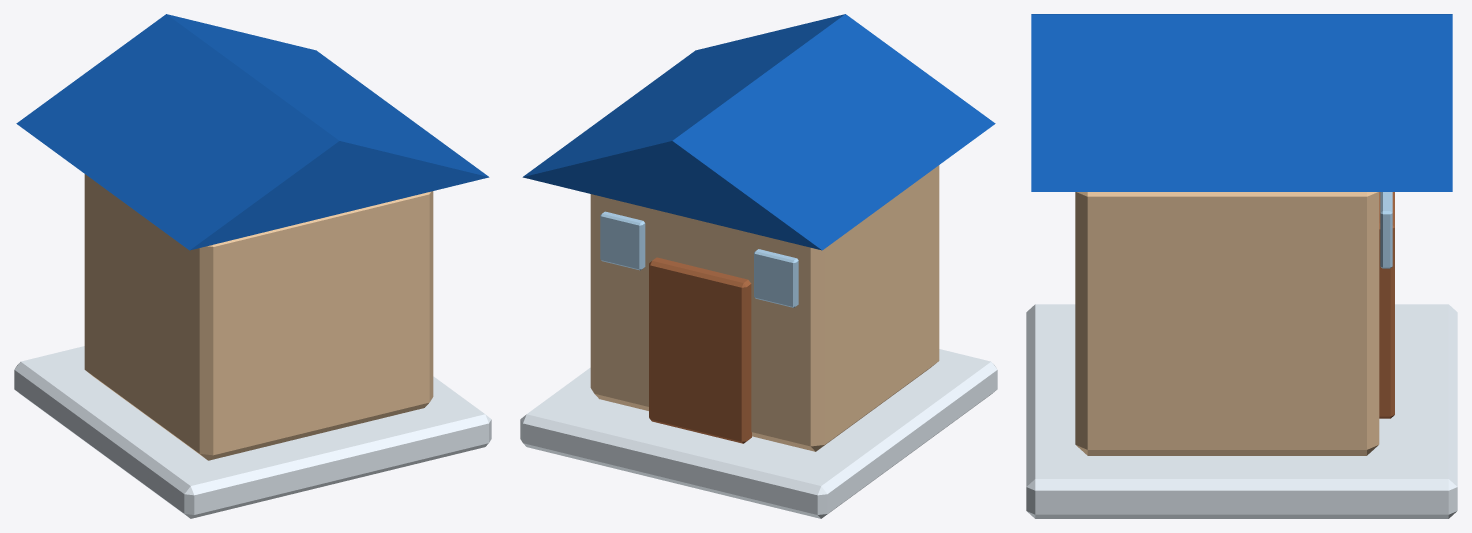
Rendered from Building_Warehouse_1x1_v001.fbx.
The picture shows the model from 3 angles, left to right: view 1: azimuth 30°, elevation 25°; view 2: azimuth 150°, elevation 25°; view 3: azimuth 270°, elevation 25°; orthographic projection. The views are drawn at different scales.
Parts seen in each view (by area): view 1: Walls, Roof, Foundation; view 2: Roof, Walls, Foundation, Door_Anim, Window, Window.001; view 3: Walls, Roof, Foundation, Door_Anim, Window.
Part boxes in pixels (x1=…): Walls: x1=84, y1=174, x2=433, y2=460; Roof: x1=16, y1=14, x2=489, y2=250; Foundation: x1=14, y1=346, x2=491, y2=518; Roof: x1=522, y1=14, x2=995, y2=250; Walls: x1=590, y1=165, x2=939, y2=451; Foundation: x1=520, y1=349, x2=997, y2=518; Door_Anim: x1=649, y1=257, x2=751, y2=443; Window: x1=600, y1=211, x2=645, y2=270; Window.001: x1=754, y1=249, x2=798, y2=307; Walls: x1=1075, y1=192, x2=1379, y2=455; Roof: x1=1031, y1=14, x2=1452, y2=191; Foundation: x1=1026, y1=304, x2=1457, y2=518; Door_Anim: x1=1379, y1=192, x2=1394, y2=418; Window: x1=1380, y1=192, x2=1392, y2=268.
Size of the model in its own units: 88 by 94 by 88.
